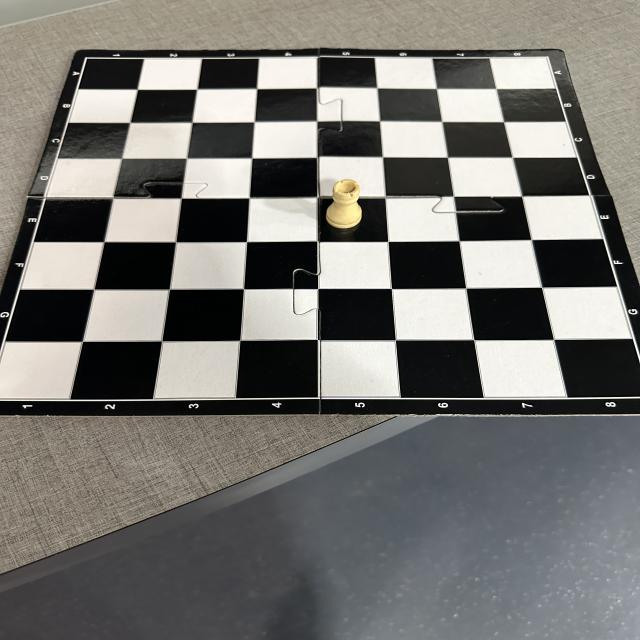White-Rook: (325, 179, 363, 229)
